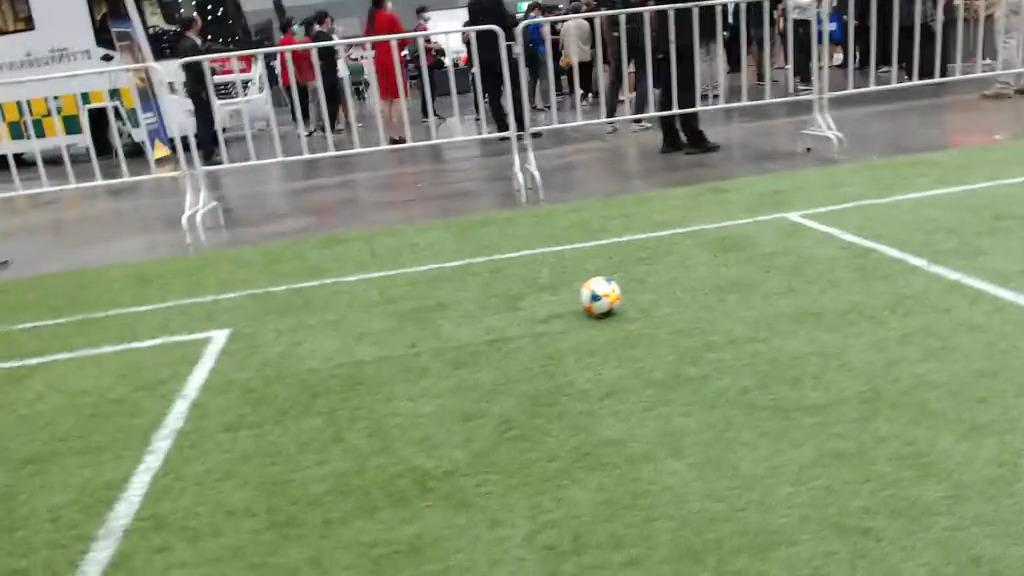ball: (581, 276, 619, 318)
